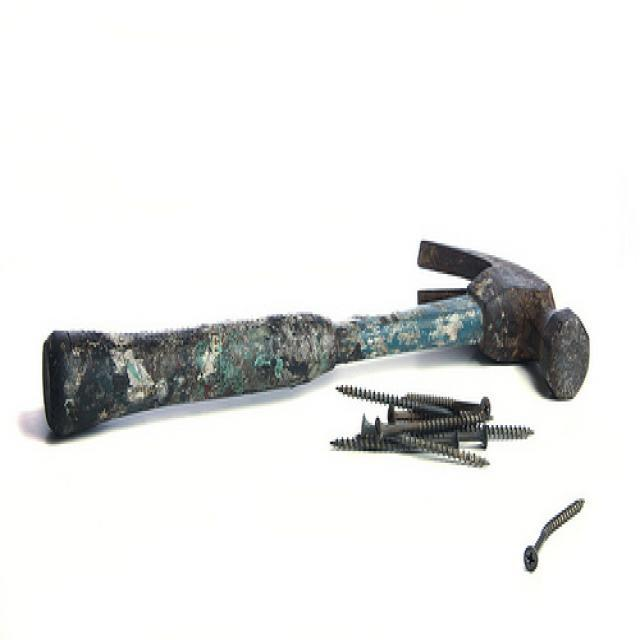hammer: (0, 219, 603, 422)
